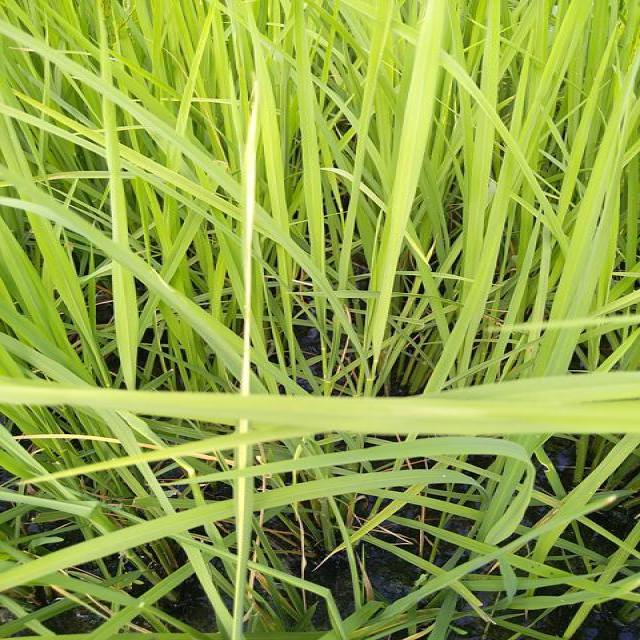Leaf Blight: (243, 81, 257, 399), (233, 418, 249, 639)
